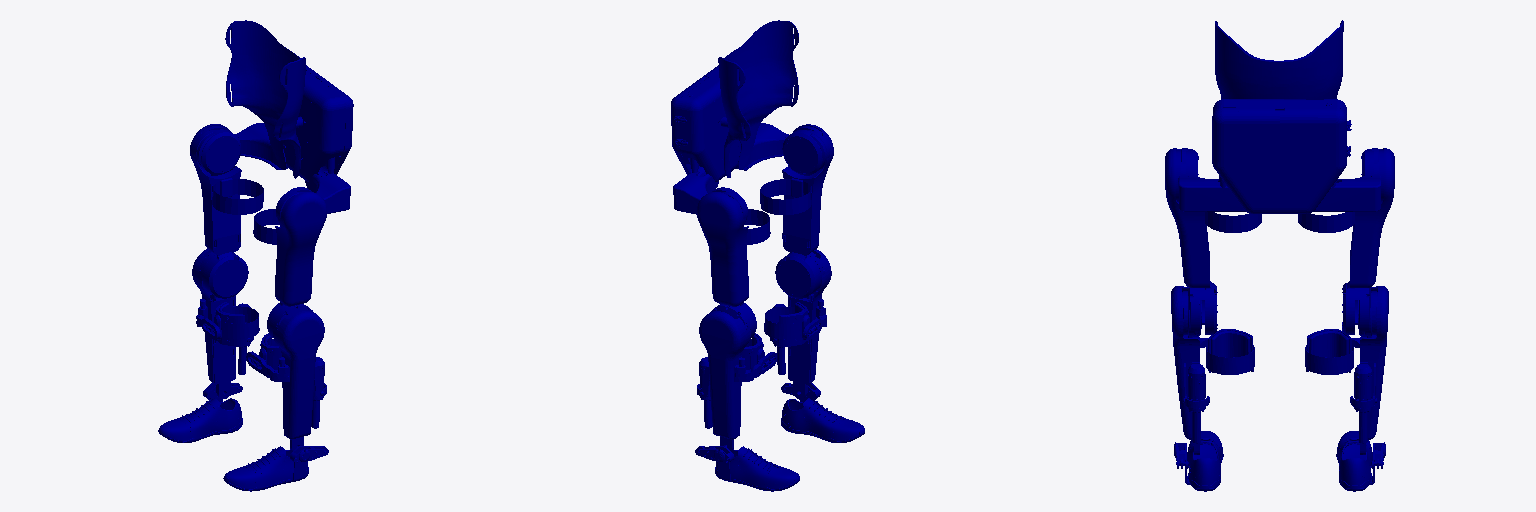
robot.urdf — march:
<?xml version="1.0" encoding="utf-8"?>
<!-- =================================================================================== -->
<!-- |    This document was autogenerated by xacro from [local-path]/march_ws/install/march_description/share/march_description/urdf/march4.xacro | -->
<!-- |    EDITING THIS FILE BY HAND IS NOT RECOMMENDED                                 | -->
<!-- =================================================================================== -->
<!-- Revolute-Revolute Manipulator -->
<robot name="march">
  <!-- Square dimensions (widthxwidth) of beams -->
  <!-- mass = Hip base + HAA actuators -->
  <!-- mass = Moving hip -->
  <!-- mass = KFE joint + HFE joint + Upper leg -->
  <!-- mass = Ankle actuator + Lower leg -->
  <!-- mass = Passive ankle + foot -->
  <!-- rad/s -->
  <!-- rad/s -->
  <!-- Space btw top of beam and the each joint -->
  <gazebo>
    <plugin filename="libgazebo_ros_control.so" name="gazebo_ros_control">
      <robotNamespace>/march</robotNamespace>
      <robotSimType>gazebo_ros_control/DefaultRobotHWSim</robotSimType>
    </plugin>
  </gazebo>
  <material name="blue">
    <color rgba="0 0 0.6 1"/>
  </material>
  <!-- Used for fixing robot to Gazebo 'base_link' -->
  <link name="world"/>
  <!-- Parts -->
  <!-- Hip-->
  <link name="hip_base">
    <visual>
      <origin rpy="0 0 -1.57079632679" xyz="0 0 0"/>
      <geometry>
        <mesh filename="package://march_description/urdf/stl-files/HipBase.stl" scale="1.15 1.15 1.15"/>
      </geometry>
      <material name="blue"/>
    </visual>
    <inertial>
      <origin rpy="0 0 0" xyz="-0.014714 9.11124e-06 0.152163"/>
      <mass value="6.089"/>
      <inertia ixx="0.117325" ixy="-2.39249e-05" ixz="0.0179732" iyy="0.0745937" iyz="-4.72801e-06" izz="0.0684134"/>
    </inertial>
    <collision>
      <origin rpy="0 0 0" xyz="0 0 0"/>
      <geometry>
        <box size="0.05 0.16 0.05"/>
      </geometry>
    </collision>
  </link>
  <!-- IMU-->
  <link name="imu_link">
    </link>
  <!-- Left Moving Hip-->
  <link name="hip_aa_frame_left_side">
    <visual>
      <origin rpy="0 0 -1.57079632679" xyz="0 0 0"/>
      <geometry>
        <mesh filename="package://march_description/urdf/stl-files/HipLeft.stl" scale="1.15 1.15 1.15"/>
      </geometry>
      <material name="blue"/>
    </visual>
    <collision>
      <origin rpy="0 0 0" xyz="0 -0.085 0"/>
      <geometry>
        <box size="0.05 0.17 0.05"/>
      </geometry>
    </collision>
  </link>
  <link name="hip_aa_frame_left_front">
    <inertial>
      <origin rpy="0 0 0" xyz="-0.0725512 0.039434 -0.000250494"/>
      <mass value="1.407"/>
      <inertia ixx="0.00841686" ixy="-0.00655578" ixz="9.10634e-05" iyy="0.0165504" iyz="-9.96411e-05" izz="0.0229261"/>
    </inertial>
    <collision>
      <origin rpy="0 0 0" xyz="-0.06975 0 0"/>
      <geometry>
        <box size="0.1395 0.05 0.05"/>
      </geometry>
    </collision>
  </link>
  <!-- Upper Leg Left-->
  <link name="upper_leg_left">
    <visual>
      <origin rpy="0 0 -1.57079632679" xyz="0 0 0"/>
      <geometry>
        <mesh filename="package://march_description/urdf/stl-files/UpperLegLeft.stl" scale="1.15 1.15 1.15"/>
      </geometry>
      <material name="blue"/>
    </visual>
    <inertial>
      <origin rpy="0 0 0" xyz="-0.00219961 0.028465 -0.184207"/>
      <mass value="7.238"/>
      <inertia ixx="0.119187" ixy="3.63676e-05" ixz="-3.93791e-05" iyy="0.11867" iyz="0.0125652" izz="0.00881972"/>
    </inertial>
    <collision>
      <origin rpy="0 0 0" xyz="0 0 -0.1925"/>
      <geometry>
        <box size="0.05 0.05 0.385"/>
      </geometry>
    </collision>
  </link>
  <!-- Lower Leg Left -->
  <link name="lower_leg_left">
    <visual>
      <origin rpy="0 0 -1.57079632679" xyz="0 0 0"/>
      <geometry>
        <mesh filename="package://march_description/urdf/stl-files/LowerLegLeft.stl" scale="1.15 1.15 1.15"/>
      </geometry>
      <material name="blue"/>
    </visual>
    <inertial>
      <origin rpy="0 0 0" xyz="-0.00434063 0.065417 -0.126661"/>
      <mass value="2.944"/>
      <inertia ixx="0.0725438" ixy="0.0264923" ixz="0.00934723" iyy="0.108683" iyz="-0.00109811" izz="0.0715361"/>
    </inertial>
    <collision>
      <origin rpy="0 0 0" xyz="0 0 -0.1925"/>
      <geometry>
        <box size="0.05 0.05 0.385"/>
      </geometry>
    </collision>
  </link>
  <!-- Ankle plate Left -->
  <link name="ankle_plate_left">
    <visual>
      <origin rpy="0 0 -1.57079632679" xyz="0 0 0"/>
      <geometry>
        <mesh filename="package://march_description/urdf/stl-files/FootLeft.stl" scale="1.15 1.15 1.15"/>
      </geometry>
      <material name="blue"/>
    </visual>
    <collision>
      <origin rpy="0 0 0" xyz="0 0 -0.06"/>
      <geometry>
        <box size="0.05 0.05 0.12"/>
      </geometry>
    </collision>
  </link>
  <!-- Foot Left -->
  <link name="foot_left">
    <inertial>
      <origin rpy="0 0 0" xyz="-0.0450791 0.102919 0.045249"/>
      <mass value="0.847"/>
      <inertia ixx="0.00414758" ixy="0.00185339" ixz="-0.00254464" iyy="0.00855883" iyz="0.00166213" izz="0.00715736"/>
    </inertial>
    <collision>
      <origin rpy="0 0 0" xyz="-0.0625 0 0"/>
      <geometry>
        <box size="0.243 0.05 0.05"/>
      </geometry>
    </collision>
  </link>
  <gazebo reference="foot_left">
    <mu1>0.9</mu1>
    <mu2>0.9</mu2>
    <minDepth>0.0005</minDepth>
  </gazebo>
  <!-- Right Moving Hip-->
  <link name="hip_aa_frame_right_side">
    <visual>
      <origin rpy="0 0 -1.57079632679" xyz="0 0 0"/>
      <geometry>
        <mesh filename="package://march_description/urdf/stl-files/HipRight.stl" scale="1.15 1.15 1.15"/>
      </geometry>
      <material name="blue"/>
    </visual>
    <collision>
      <origin rpy="0 0 0" xyz="0 0.085 0"/>
      <geometry>
        <box size="0.05 0.17 0.05"/>
      </geometry>
    </collision>
  </link>
  <link name="hip_aa_frame_right_front">
    <inertial>
      <origin rpy="0 0 0" xyz="-0.0725512 -0.039434 -0.000250494"/>
      <mass value="1.407"/>
      <inertia ixx="0.00841686" ixy="0.00655578" ixz="9.10634e-05" iyy="0.0165504" iyz="9.96411e-05" izz="0.0229261"/>
    </inertial>
    <collision>
      <origin rpy="0 0 0" xyz="-0.06975 0 0"/>
      <geometry>
        <box size="0.1395 0.05 0.05"/>
      </geometry>
    </collision>
  </link>
  <!-- Upper Leg Right-->
  <link name="upper_leg_right">
    <visual>
      <origin rpy="0 0 -1.57079632679" xyz="0 0 0"/>
      <geometry>
        <mesh filename="package://march_description/urdf/stl-files/UpperLegRight.stl" scale="1.15 1.15 1.15"/>
      </geometry>
      <material name="blue"/>
    </visual>
    <inertial>
      <origin rpy="0 0 0" xyz="-0.00219961 -0.028465 -0.184207"/>
      <mass value="7.238"/>
      <inertia ixx="0.119187" ixy="-3.63676e-05" ixz="-3.93791e-05" iyy="0.11867" iyz="-0.0125652" izz="0.00881972"/>
    </inertial>
    <collision>
      <origin rpy="0 0 0" xyz="0 0 -0.1925"/>
      <geometry>
        <box size="0.05 0.05 0.385"/>
      </geometry>
    </collision>
  </link>
  <!-- Lower Leg Right -->
  <link name="lower_leg_right">
    <visual>
      <origin rpy="0 0 -1.57079632679" xyz="0 0 0"/>
      <geometry>
        <mesh filename="package://march_description/urdf/stl-files/LowerLegRight.stl" scale="1.15 1.15 1.15"/>
      </geometry>
      <material name="blue"/>
    </visual>
    <inertial>
      <origin rpy="0 0 0" xyz="-0.00434063 -0.065417 -0.126661"/>
      <mass value="2.944"/>
      <inertia ixx="0.0725438" ixy="-0.0264923" ixz="0.00934723" iyy="0.108683" iyz="0.00109811" izz="0.0715361"/>
    </inertial>
    <collision>
      <origin rpy="0 0 0" xyz="0 0 -0.1925"/>
      <geometry>
        <box size="0.05 0.05 0.385"/>
      </geometry>
    </collision>
  </link>
  <!-- Ankle Plate Right -->
  <link name="ankle_plate_right">
    <visual>
      <origin rpy="0 0 -1.57079632679" xyz="0 0 0"/>
      <geometry>
        <mesh filename="package://march_description/urdf/stl-files/FootRight.stl" scale="1.15 1.15 1.15"/>
      </geometry>
      <material name="blue"/>
    </visual>
    <collision>
      <origin rpy="0 0 0" xyz="0 0 -0.06"/>
      <geometry>
        <box size="0.05 0.05 0.12"/>
      </geometry>
    </collision>
  </link>
  <!-- Foot Right -->
  <link name="foot_right">
    <inertial>
      <origin rpy="0 0 0" xyz="-0.0450791 -0.102919 0.045249"/>
      <mass value="0.847"/>
      <inertia ixx="0.00414758" ixy="-0.00185339" ixz="-0.00254464" iyy="0.00855883" iyz="-0.00166213" izz="0.00715736"/>
    </inertial>
    <collision>
      <origin rpy="0 0 0" xyz="-0.0625 0 0"/>
      <geometry>
        <box size="0.243 0.05 0.05"/>
      </geometry>
    </collision>
  </link>
  <gazebo reference="foot_right">
    <mu1>0.9</mu1>
    <mu2>0.9</mu2>
    <minDepth>0.0005</minDepth>
  </gazebo>
  <!-- Joints -->
  <joint name="imu_joint" type="fixed">
    <parent link="world"/>
    <child link="imu_link"/>
  </joint>
  <joint name="hip" type="fixed">
    <parent link="imu_link"/>
    <child link="hip_base"/>
    <origin rpy="0 0 0" xyz="0 0 1.215"/>
  </joint>
  <joint name="left_hip_aa" type="revolute">
    <parent link="hip_base"/>
    <child link="hip_aa_frame_left_side"/>
    <origin rpy="0 0 0" xyz="0 -0.08 0"/>
    <axis xyz="-1 0 0"/>
    <limit effort="22932.0" lower="-0.314159265359" upper="0.296705972839" velocity="1.0"/>
    <safety_controller k_position="5.0" k_velocity="20000.0" soft_lower_limit="-0.253072741539" soft_upper_limit="0.235619449019"/>
  </joint>
  <joint name="left_hip_angle" type="fixed">
    <parent link="hip_aa_frame_left_side"/>
    <child link="hip_aa_frame_left_front"/>
    <origin rpy="0 0 0" xyz="0 -0.17 0"/>
  </joint>
  <joint name="left_hip_fe" type="revolute">
    <parent link="hip_aa_frame_left_front"/>
    <child link="upper_leg_left"/>
    <origin rpy="0 0 0" xyz="-0.1395 0 0"/>
    <axis xyz="0 1 0"/>
    <limit effort="20475" lower="-0.349065850399" upper="1.74532925199" velocity="2.0"/>
    <safety_controller k_position="5.0" k_velocity="20000.0" soft_lower_limit="-0.296705972839" soft_upper_limit="1.69296937443"/>
  </joint>
  <joint name="left_knee" type="revolute">
    <parent link="upper_leg_left"/>
    <child link="lower_leg_left"/>
    <origin rpy="0 0 0" xyz="0 0 -0.385"/>
    <axis xyz="0 -1 0"/>
    <limit effort="20475" lower="-0.0872664625997" upper="2.00712863979" velocity="2.5"/>
    <safety_controller k_position="5.0" k_velocity="20000.0" soft_lower_limit="-0.0261799387799" soft_upper_limit="1.95476876223"/>
  </joint>
  <joint name="left_ankle" type="revolute">
    <parent link="lower_leg_left"/>
    <child link="ankle_plate_left"/>
    <origin rpy="0 0 0" xyz="0 0 -0.385"/>
    <axis xyz="0 1 0"/>
    <limit effort="22932.0" lower="-0.436332312999" upper="0.261799387799" velocity="1.0"/>
    <safety_controller k_position="5.0" k_velocity="20000.0" soft_lower_limit="-0.383972435439" soft_upper_limit="0.174532925199"/>
  </joint>
  <joint name="left_foot_angle" type="fixed">
    <parent link="ankle_plate_left"/>
    <child link="foot_left"/>
    <origin rpy="0 0 0" xyz="0 0 -0.12"/>
  </joint>
  <joint name="right_hip_aa" type="revolute">
    <parent link="hip_base"/>
    <child link="hip_aa_frame_right_side"/>
    <origin rpy="0 0 0" xyz="0 0.08 0"/>
    <axis xyz="1 0 0"/>
    <limit effort="22932.0" lower="-0.314159265359" upper="0.296705972839" velocity="1.0"/>
    <safety_controller k_position="5.0" k_velocity="20000.0" soft_lower_limit="-0.253072741539" soft_upper_limit="0.235619449019"/>
  </joint>
  <joint name="right_hip_angle" type="fixed">
    <parent link="hip_aa_frame_right_side"/>
    <child link="hip_aa_frame_right_front"/>
    <origin rpy="0 0 0" xyz="0 0.17 0"/>
  </joint>
  <joint name="right_hip_fe" type="revolute">
    <parent link="hip_aa_frame_right_front"/>
    <child link="upper_leg_right"/>
    <origin rpy="0 0 0" xyz="-0.1395 0 0"/>
    <axis xyz="0 1 0"/>
    <limit effort="20475" lower="-0.349065850399" upper="1.74532925199" velocity="2.0"/>
    <safety_controller k_position="5.0" k_velocity="20000.0" soft_lower_limit="-0.296705972839" soft_upper_limit="1.69296937443"/>
  </joint>
  <joint name="right_knee" type="revolute">
    <parent link="upper_leg_right"/>
    <child link="lower_leg_right"/>
    <origin rpy="0 0 0" xyz="0 0 -0.385"/>
    <axis xyz="0 -1 0"/>
    <limit effort="20475" lower="-0.0872664625997" upper="2.00712863979" velocity="2.5"/>
    <safety_controller k_position="5.0" k_velocity="20000.0" soft_lower_limit="-0.0261799387799" soft_upper_limit="1.95476876223"/>
  </joint>
  <joint name="right_ankle" type="revolute">
    <parent link="lower_leg_right"/>
    <child link="ankle_plate_right"/>
    <origin rpy="0 0 0" xyz="0 0 -0.385"/>
    <axis xyz="0 1 0"/>
    <limit effort="22932.0" lower="-0.436332312999" upper="0.261799387799" velocity="1.0"/>
    <safety_controller k_position="5.0" k_velocity="20000.0" soft_lower_limit="-0.383972435439" soft_upper_limit="0.174532925199"/>
  </joint>
  <joint name="right_foot_angle" type="fixed">
    <parent link="ankle_plate_right"/>
    <child link="foot_right"/>
    <origin rpy="0 0 0" xyz="0 0 -0.12"/>
  </joint>
  <!-- ROS Control plugin for Gazebo -->
  <transmission name="left_hip_aa">
    <type>transmission_interface/SimpleTransmission</type>
    <joint name="left_hip_aa">
      <hardwareInterface>hardware_interface/EffortJointInterface</hardwareInterface>
    </joint>
    <actuator name="left_hip_aa_motor">
      <hardwareInterface>hardware_interface/EffortJointInterface</hardwareInterface>
      <mechanicalReduction>200</mechanicalReduction>
    </actuator>
  </transmission>
  <transmission name="left_hip_fe">
    <type>transmission_interface/SimpleTransmission</type>
    <joint name="left_hip_fe">
      <hardwareInterface>hardware_interface/EffortJointInterface</hardwareInterface>
    </joint>
    <actuator name="left_hip_fe_motor">
      <hardwareInterface>hardware_interface/EffortJointInterface</hardwareInterface>
      <mechanicalReduction>101</mechanicalReduction>
    </actuator>
  </transmission>
  <transmission name="left_knee">
    <type>transmission_interface/SimpleTransmission</type>
    <joint name="left_knee">
      <hardwareInterface>hardware_interface/EffortJointInterface</hardwareInterface>
    </joint>
    <actuator name="left_knee_motor">
      <hardwareInterface>hardware_interface/EffortJointInterface</hardwareInterface>
      <mechanicalReduction>101</mechanicalReduction>
    </actuator>
  </transmission>
  <transmission name="left_ankle">
    <type>transmission_interface/SimpleTransmission</type>
    <joint name="left_ankle">
      <hardwareInterface>hardware_interface/EffortJointInterface</hardwareInterface>
    </joint>
    <actuator name="left_ankle_motor">
      <hardwareInterface>hardware_interface/EffortJointInterface</hardwareInterface>
      <mechanicalReduction>200</mechanicalReduction>
    </actuator>
  </transmission>
  <transmission name="right_hip_aa">
    <type>transmission_interface/SimpleTransmission</type>
    <joint name="right_hip_aa">
      <hardwareInterface>hardware_interface/EffortJointInterface</hardwareInterface>
    </joint>
    <actuator name="right_hip_aa_motor">
      <hardwareInterface>hardware_interface/EffortJointInterface</hardwareInterface>
      <mechanicalReduction>200</mechanicalReduction>
    </actuator>
  </transmission>
  <transmission name="right_hip_fe">
    <type>transmission_interface/SimpleTransmission</type>
    <joint name="right_hip_fe">
      <hardwareInterface>hardware_interface/EffortJointInterface</hardwareInterface>
    </joint>
    <actuator name="right_hip_fe_motor">
      <hardwareInterface>hardware_interface/EffortJointInterface</hardwareInterface>
      <mechanicalReduction>101</mechanicalReduction>
    </actuator>
  </transmission>
  <transmission name="right_knee">
    <type>transmission_interface/SimpleTransmission</type>
    <joint name="right_knee">
      <hardwareInterface>hardware_interface/EffortJointInterface</hardwareInterface>
    </joint>
    <actuator name="right_knee_motor">
      <hardwareInterface>hardware_interface/EffortJointInterface</hardwareInterface>
      <mechanicalReduction>101</mechanicalReduction>
    </actuator>
  </transmission>
  <transmission name="right_ankle">
    <type>transmission_interface/SimpleTransmission</type>
    <joint name="right_ankle">
      <hardwareInterface>hardware_interface/EffortJointInterface</hardwareInterface>
    </joint>
    <actuator name="right_ankle_motor">
      <hardwareInterface>hardware_interface/EffortJointInterface</hardwareInterface>
      <mechanicalReduction>200</mechanicalReduction>
    </actuator>
  </transmission>
</robot>

--- Render facts (derived) ---
3 views of the same robot in one strip: view 1: azimuth 30°, elevation 25°; view 2: azimuth 150°, elevation 25°; view 3: azimuth 270°, elevation 25° (orthographic).
Robot: march — 15 links, 14 joints (8 revolute, 6 fixed); root link world; default pose: every joint at zero.
Visible links, largest first — view 1: hip_base, upper_leg_right, lower_leg_left, upper_leg_left, lower_leg_right, ankle_plate_left, ankle_plate_right, hip_aa_frame_left_side, hip_aa_frame_right_side; view 2: hip_base, upper_leg_left, lower_leg_right, upper_leg_right, lower_leg_left, ankle_plate_right, ankle_plate_left, hip_aa_frame_right_side, hip_aa_frame_left_side; view 3: hip_base, lower_leg_right, lower_leg_left, upper_leg_right, upper_leg_left, ankle_plate_left, ankle_plate_right, hip_aa_frame_right_side, hip_aa_frame_left_side.
Link boxes in pixels (box(x1,y1,x2,y2)): hip_base: box(225, 20, 353, 181); upper_leg_right: box(190, 124, 263, 298); lower_leg_left: box(246, 311, 326, 450); upper_leg_left: box(253, 187, 326, 337); lower_leg_right: box(192, 249, 259, 398); ankle_plate_left: box(223, 446, 328, 491); ankle_plate_right: box(158, 383, 242, 442); hip_aa_frame_left_side: box(276, 171, 350, 219); hip_aa_frame_right_side: box(194, 123, 287, 169); hip_base: box(671, 20, 798, 181); upper_leg_left: box(760, 124, 833, 298); lower_leg_right: box(697, 311, 776, 450); upper_leg_right: box(697, 187, 770, 338); lower_leg_left: box(764, 249, 831, 399); ankle_plate_right: box(695, 446, 799, 491); ankle_plate_left: box(781, 383, 864, 442); hip_aa_frame_right_side: box(673, 171, 747, 219); hip_aa_frame_left_side: box(736, 123, 829, 170); hip_base: box(1212, 20, 1351, 213); lower_leg_right: box(1305, 286, 1388, 454); lower_leg_left: box(1171, 286, 1254, 454); upper_leg_right: box(1298, 148, 1394, 334); upper_leg_left: box(1165, 148, 1261, 334); ankle_plate_left: box(1174, 431, 1223, 491); ankle_plate_right: box(1336, 431, 1385, 491); hip_aa_frame_right_side: box(1314, 148, 1380, 211); hip_aa_frame_left_side: box(1178, 148, 1245, 211).
Size in the robot's own frame: 0.4515 by 0.584 by 1.31 metres.
9 mesh visuals loaded from 9 distinct referenced files (9 binary STL).